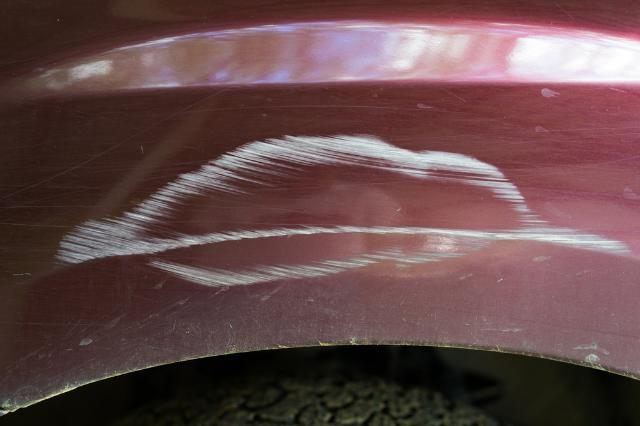scratch: (51, 132, 638, 291)
